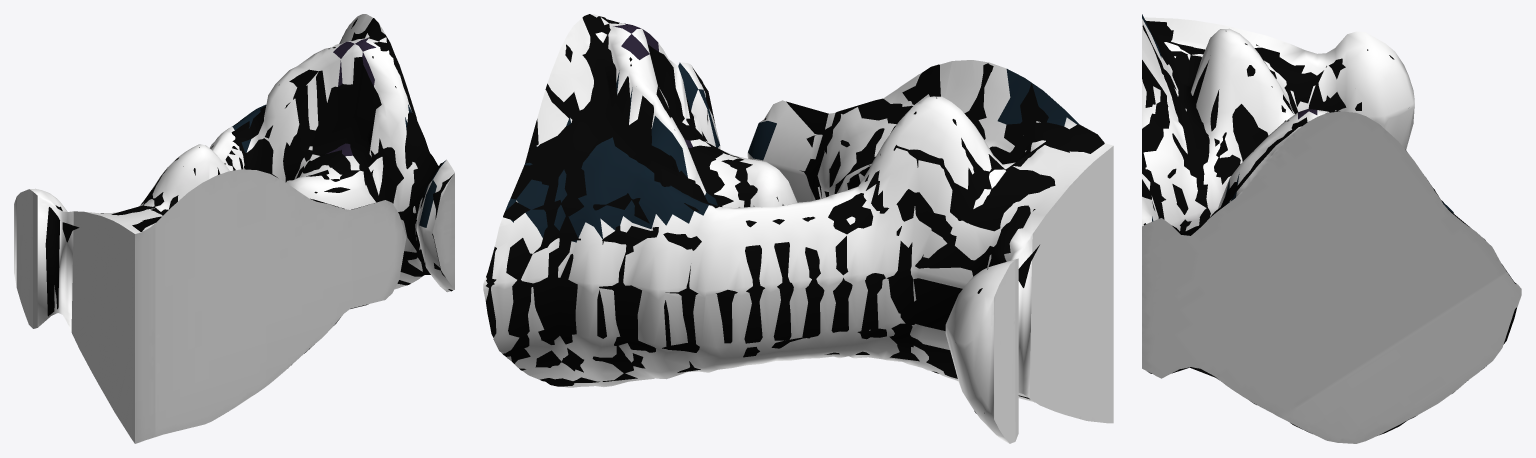
Rendered from newshn-3.glb.
3 views of the same model, side by side, from view 1: azimuth 30°, elevation 25°; view 2: azimuth 150°, elevation 25°; view 3: azimuth 270°, elevation 25° (orthographic). The views are drawn at different scales.
Parts seen in each view (by area): view 1: newshn-3, newshn-3_outline; view 2: newshn-3, newshn-3_outline; view 3: newshn-3, newshn-3_outline.
Part boxes in pixels (x1,y1,x2,y2): newshn-3: (14,14,454,443); newshn-3_outline: (45,18,453,365); newshn-3: (483,14,1113,443); newshn-3_outline: (486,14,1104,413); newshn-3: (1142,14,1521,443); newshn-3_outline: (1142,18,1516,435).
Size of the model in its own units: 2 by 1.65 by 1.62.
10 materials, 9 textured.
